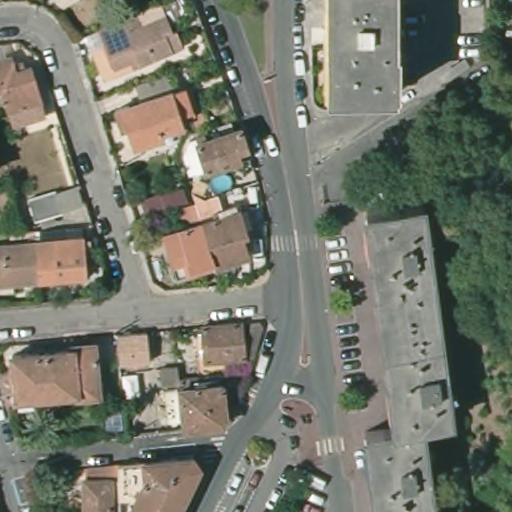pool: (208, 172, 234, 195)
